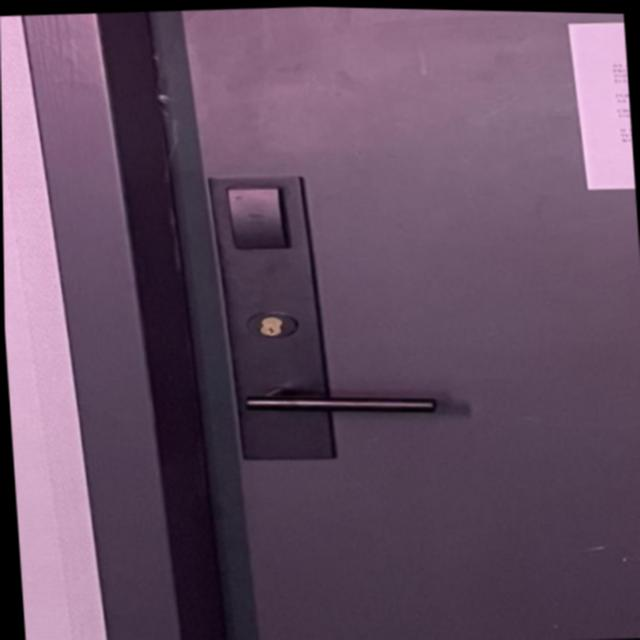door_handle: (215, 370, 455, 435)
